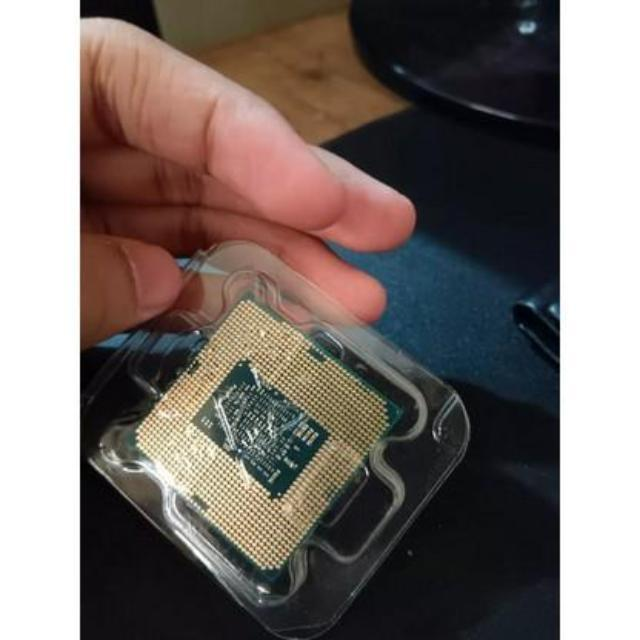CPU: (128, 287, 404, 584)
